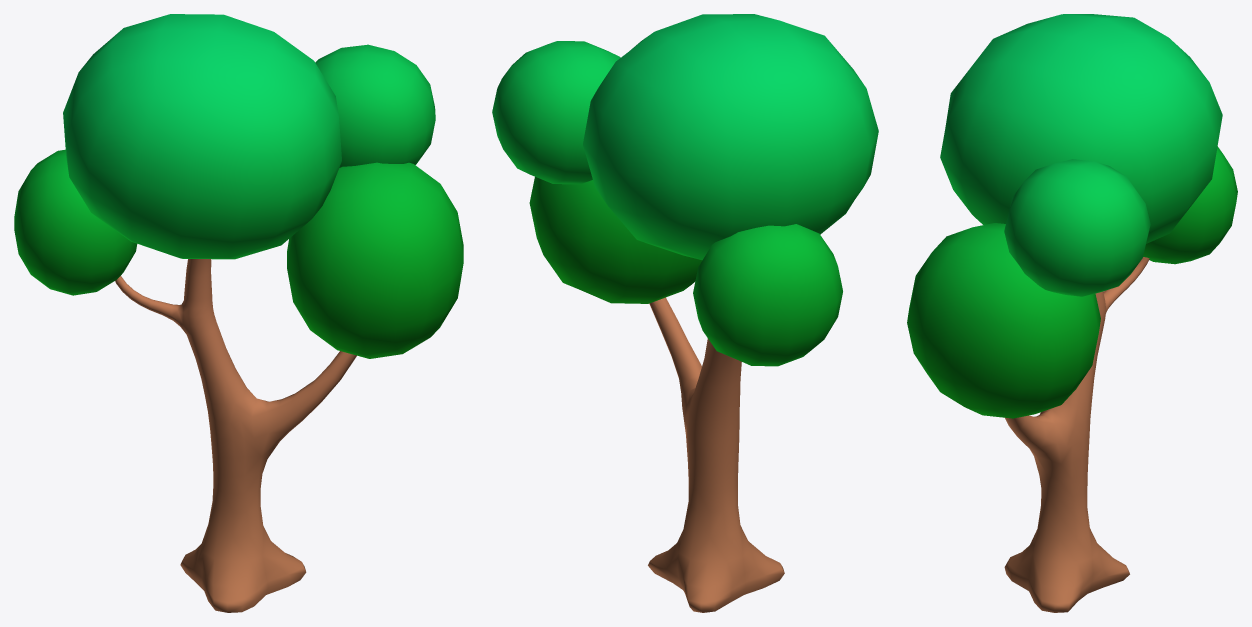
File: Tree_07.fbx
3 views of the same model, side by side, from view 1: azimuth 30°, elevation 25°; view 2: azimuth 150°, elevation 25°; view 3: azimuth 270°, elevation 25° (orthographic). The views are drawn at different scales.
Visible parts, largest first — view 1: Tree_07; view 2: Tree_07; view 3: Tree_07.
Boxes of the visible parts, <box> form: Tree_07: <box>14,14,463,612</box>; Tree_07: <box>492,14,878,612</box>; Tree_07: <box>907,14,1237,612</box>.
Bounding box in the file's own units: 391 × 567 × 314.
